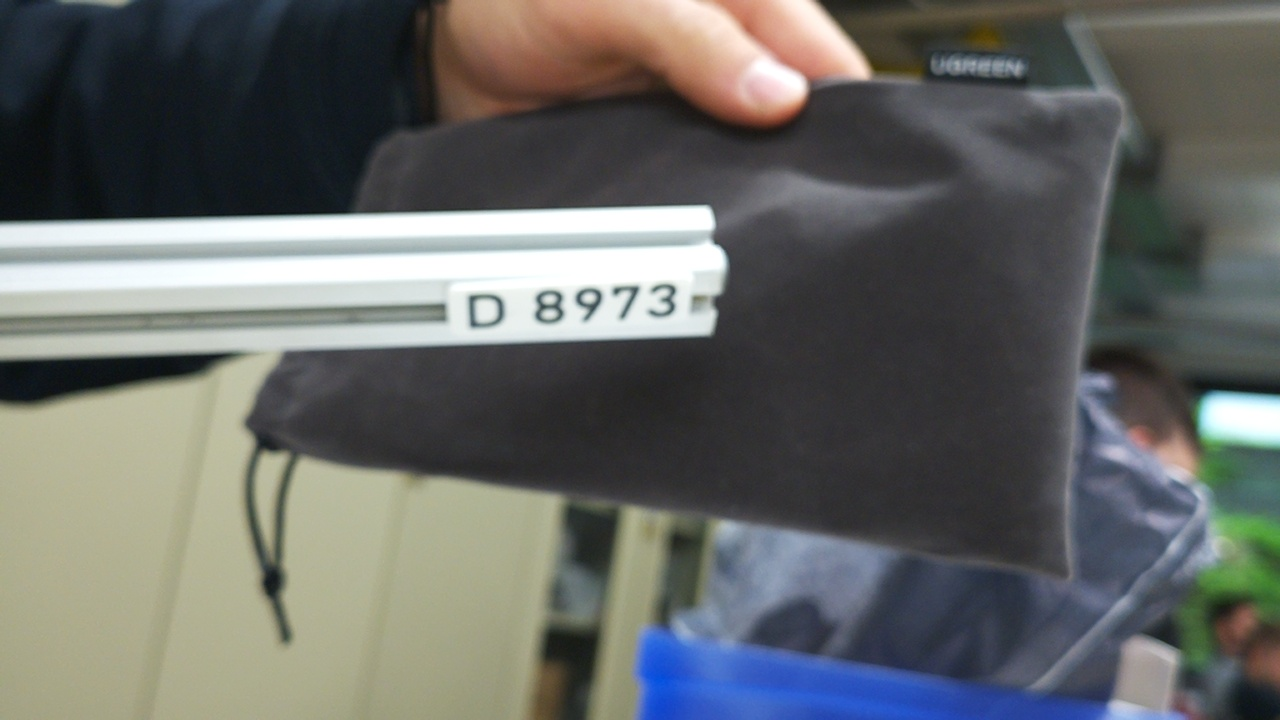license_plate: (446, 274, 701, 342)
